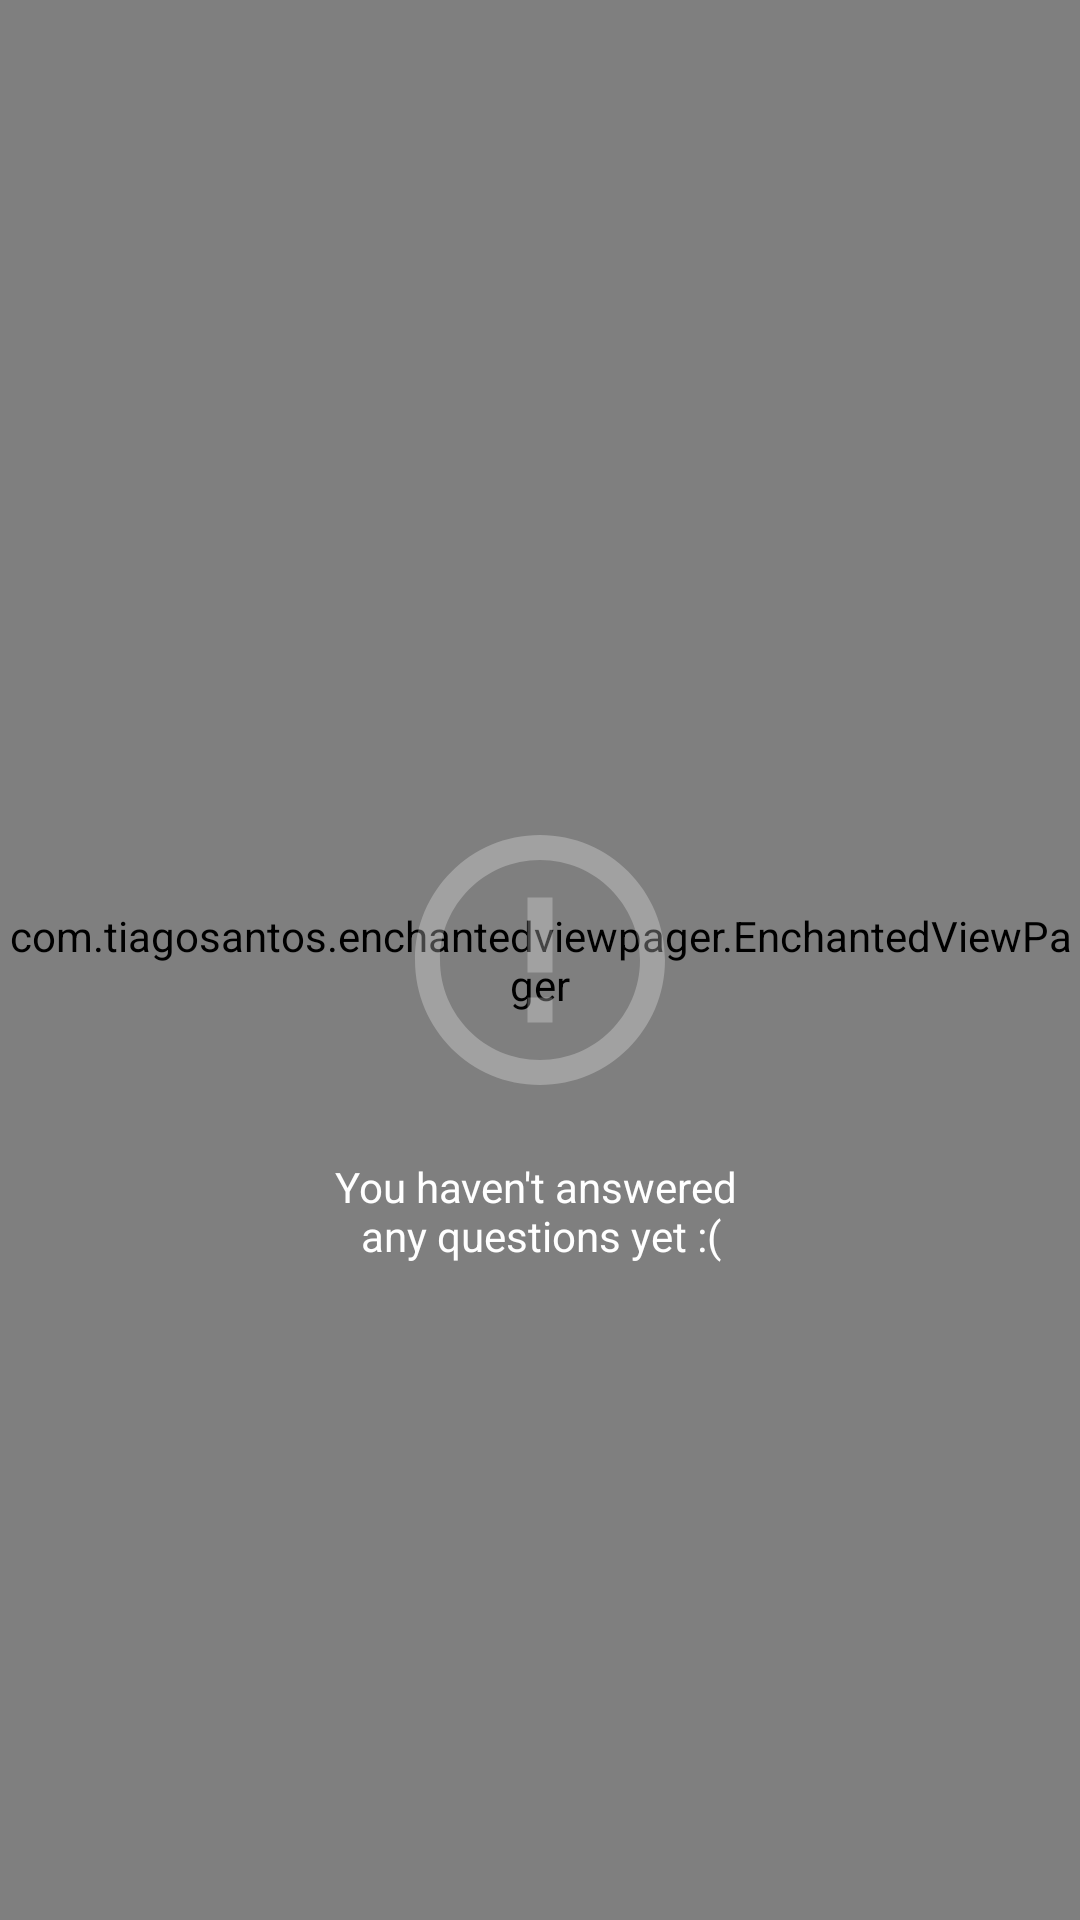

Screen size 1080x1920. Icon name, then its box in pixels as (x1, y1, x2, y2):
error: (390, 835, 686, 1085)
